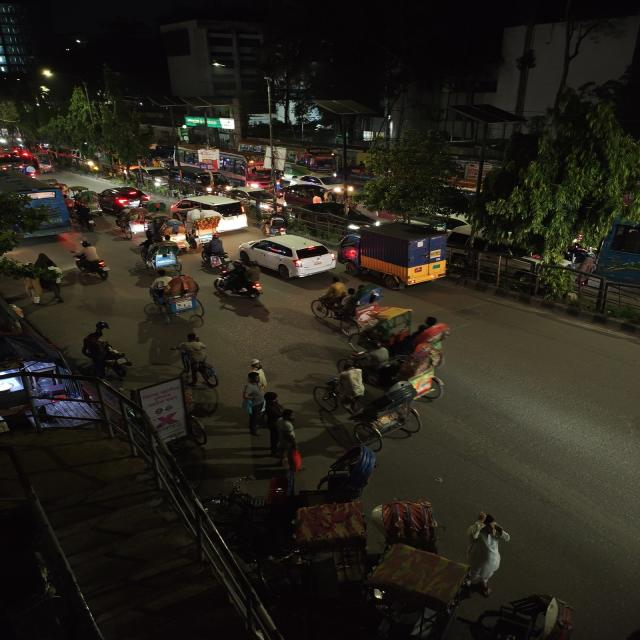bus: (22, 184, 71, 236), (220, 151, 272, 187), (284, 147, 339, 179)
car: (236, 233, 336, 280), (172, 194, 250, 230), (288, 202, 375, 234), (100, 185, 152, 213), (284, 183, 328, 203)
motorcycle: (79, 324, 133, 381), (212, 259, 266, 304), (69, 240, 113, 282), (198, 233, 229, 269)
pedestrian: (168, 335, 221, 389), (239, 358, 274, 432), (34, 263, 67, 303)
rickshaw: (283, 443, 386, 569), (310, 351, 448, 445), (344, 327, 466, 400), (145, 271, 207, 328), (312, 283, 377, 332), (144, 236, 184, 272), (149, 216, 186, 251), (112, 213, 148, 242)
truck: (353, 222, 453, 288)
